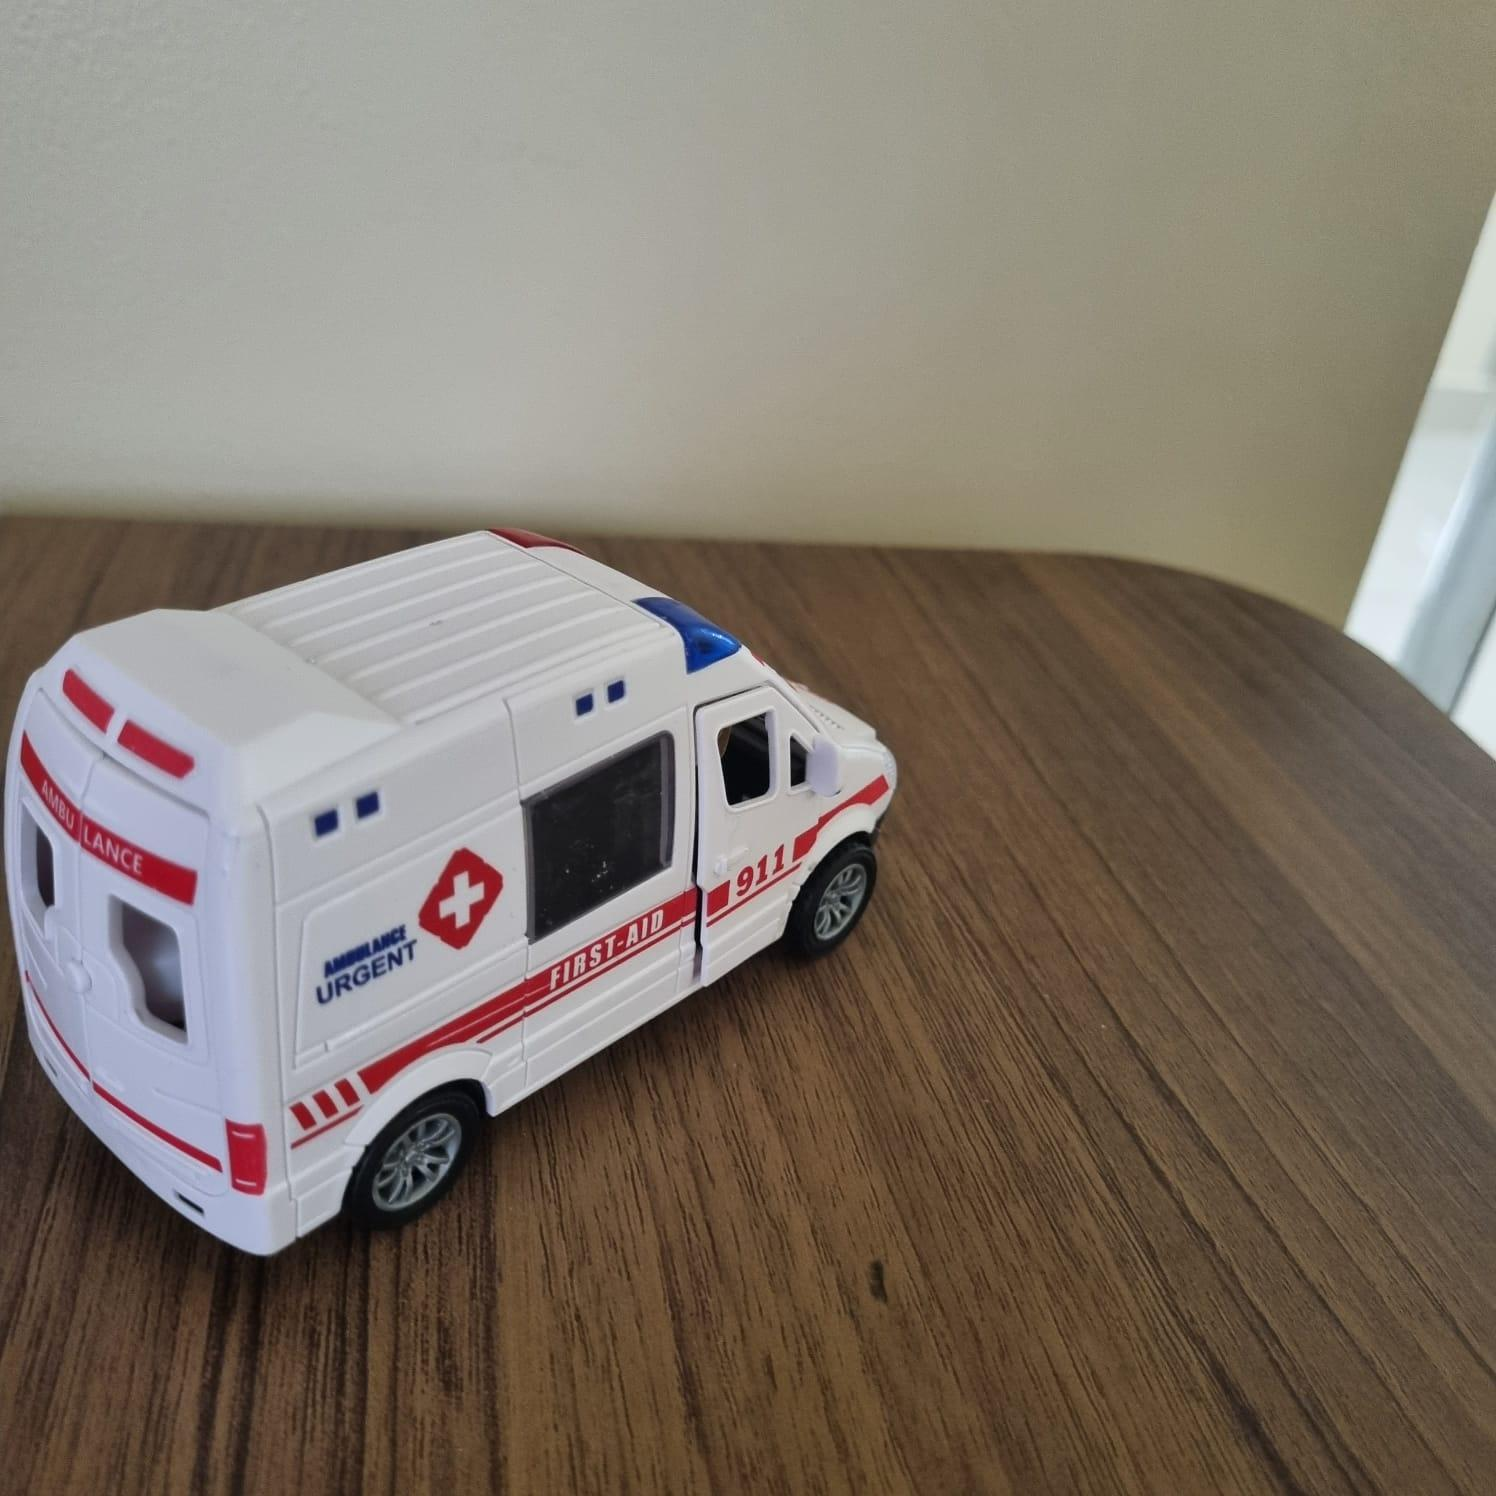ambulance_off: (0, 525, 901, 1266)
